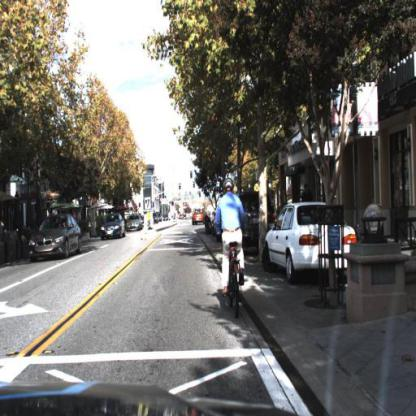biker: (214, 175, 249, 319)
car: (263, 198, 359, 287), (25, 210, 82, 262), (101, 211, 126, 242), (191, 203, 208, 227), (127, 212, 143, 232)
